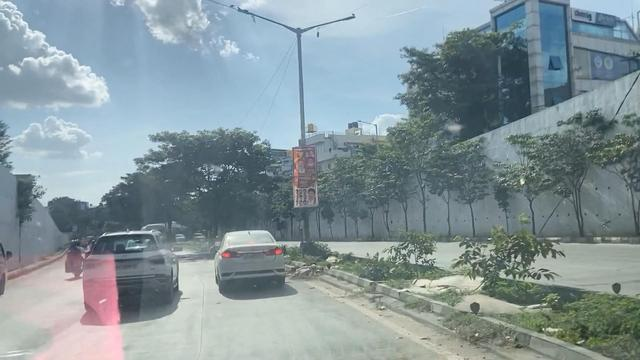LMV: (84, 232, 181, 307), (218, 230, 282, 283)
